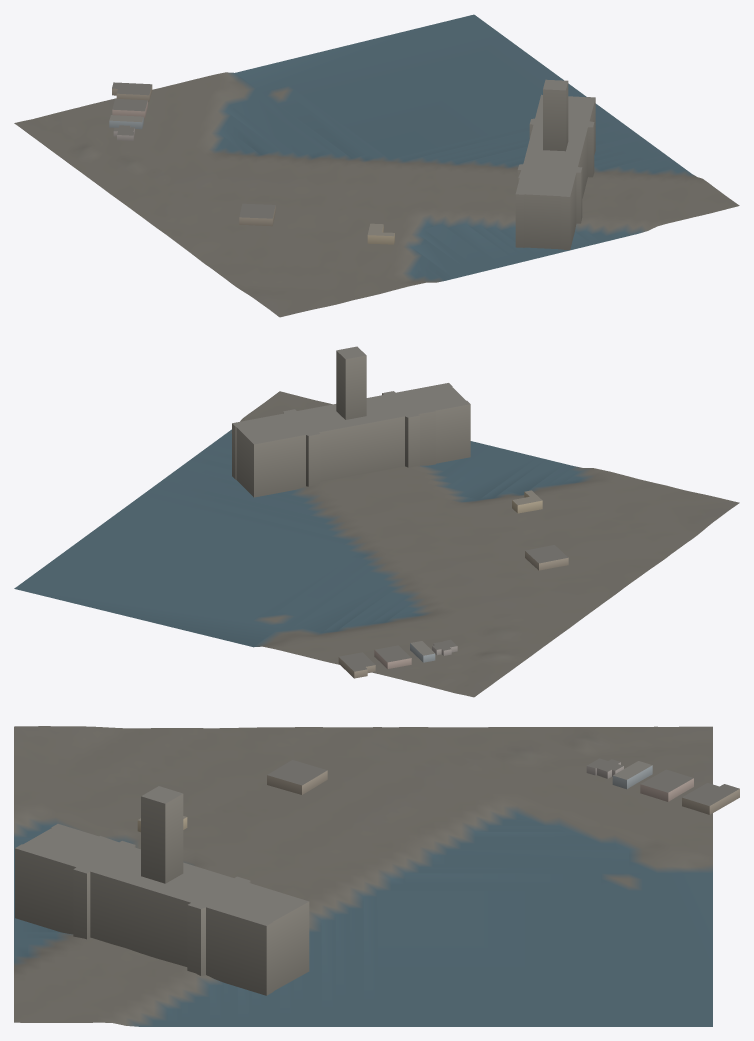
3 views of the same model, one above another, from view 1: azimuth 30°, elevation 25°; view 2: azimuth 150°, elevation 25°; view 3: azimuth 270°, elevation 25° (orthographic). The views are drawn at different scales.
Parts seen in each view (by area): view 1: ground, buildings; view 2: ground, buildings; view 3: ground, buildings.
Boxes of the visible parts, x1,y1,x2,y2 form: ground: [14, 14, 739, 317]; buildings: [109, 79, 595, 249]; ground: [14, 391, 739, 697]; buildings: [232, 346, 568, 678]; ground: [14, 726, 712, 1026]; buildings: [15, 758, 739, 995].
Size of the model in its own units: 500 by 118 by 519.
